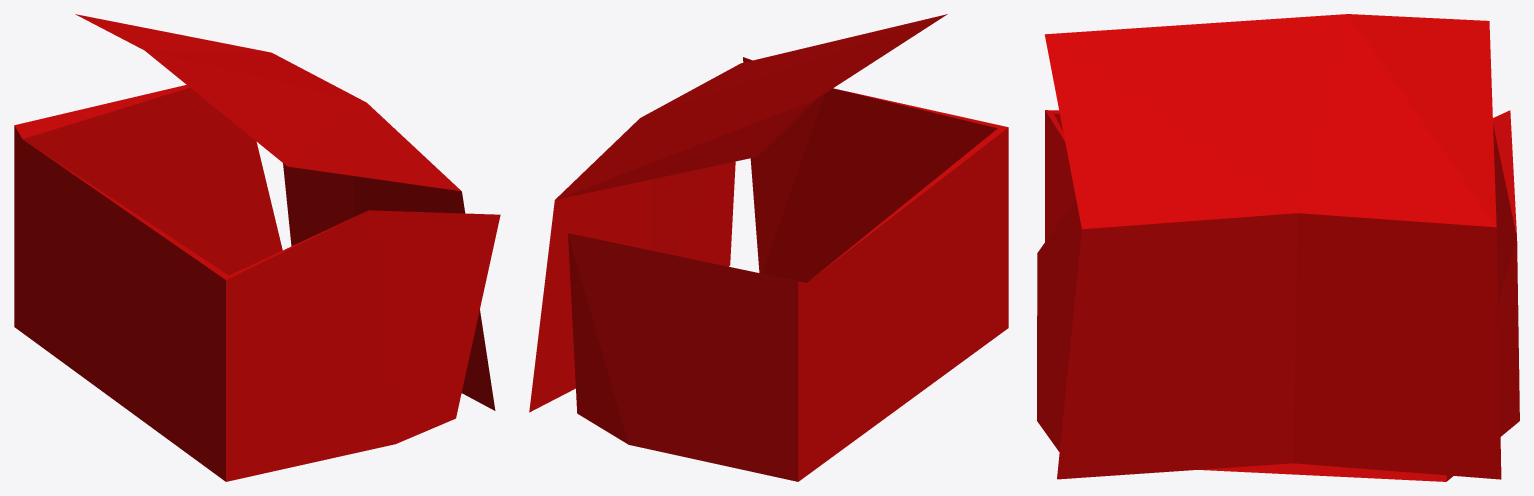
3 renders of one model, left to right at view 1: azimuth 30°, elevation 25°; view 2: azimuth 150°, elevation 25°; view 3: azimuth 270°, elevation 25°, orthographic. The views are drawn at different scales.
Visible parts, largest first — view 1: Mesh; view 2: Mesh; view 3: Mesh.
Part boxes in pixels (left/top/right/bottom): Mesh: left=14, top=14, right=500, bottom=481; Mesh: left=529, top=14, right=1008, bottom=481; Mesh: left=1037, top=14, right=1519, bottom=481.
Bounding box in the file's own units: 0.6221 × 0.7148 × 0.861.
